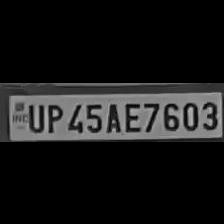0: (180, 99, 198, 129)
3: (200, 98, 218, 130)
4: (64, 100, 82, 132)
5: (83, 100, 103, 132)
6: (158, 99, 178, 130)
7: (141, 99, 158, 131)
A: (102, 100, 122, 132)
E: (121, 98, 141, 132)
P: (44, 100, 62, 132)
U: (25, 100, 43, 132)
